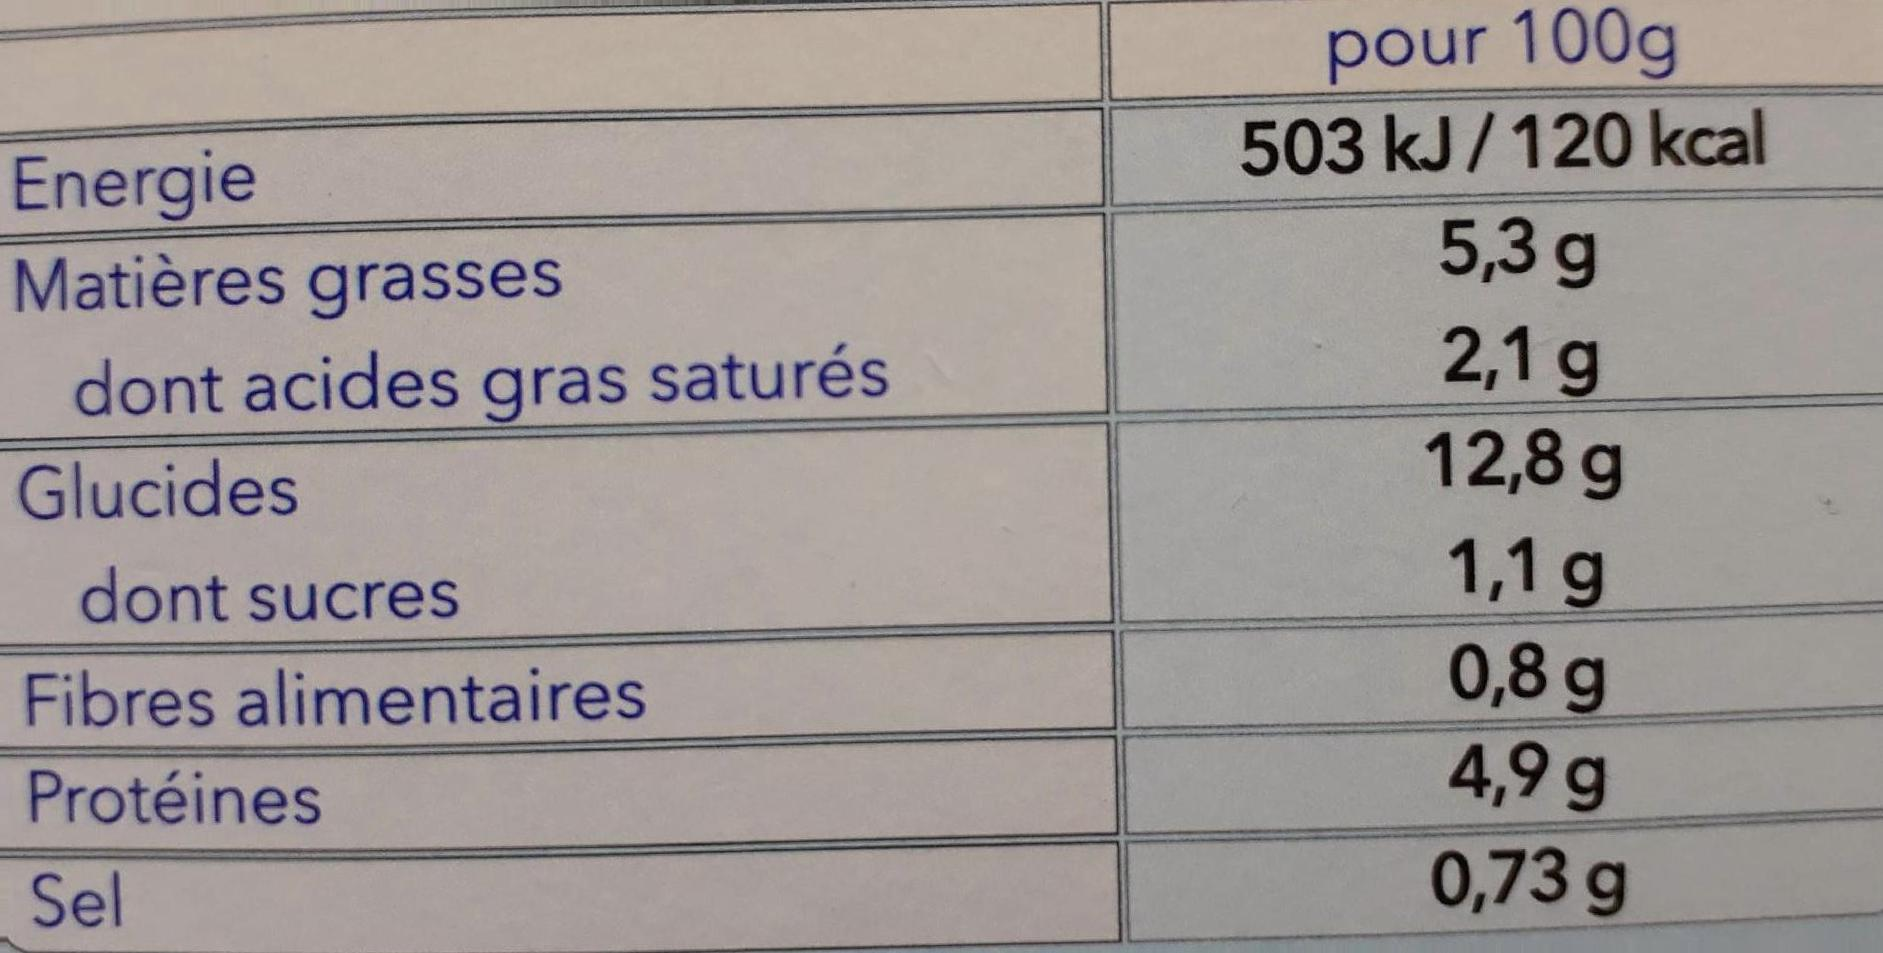column: (15, 150, 897, 927), (1246, 5, 1774, 925)
line: (17, 115, 1883, 212), (19, 850, 1883, 941), (13, 222, 1883, 310), (16, 328, 1879, 411), (13, 537, 1883, 619), (22, 741, 1883, 821), (18, 649, 1883, 726), (11, 442, 1883, 518), (35, 6, 1873, 83)
table: (1, 1, 1883, 953)
